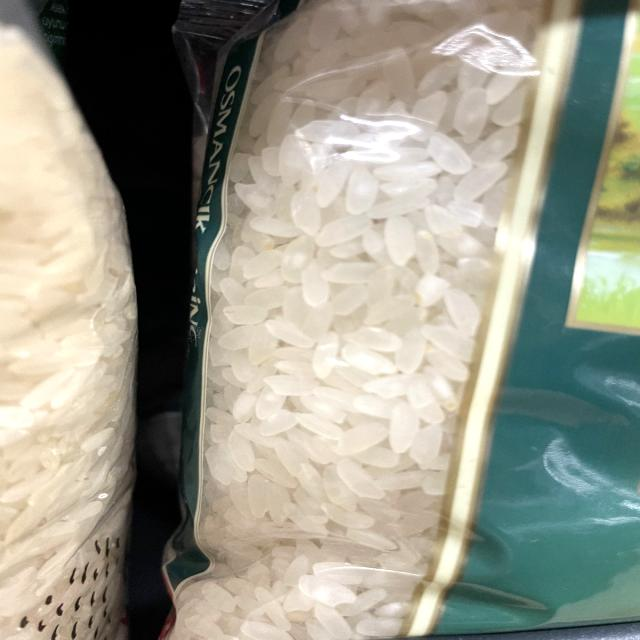rice: (165, 0, 559, 640)
